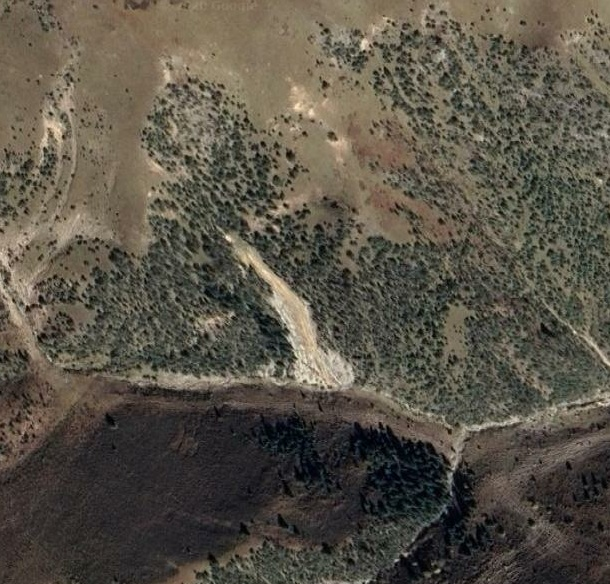slope: (221, 230, 357, 393)
